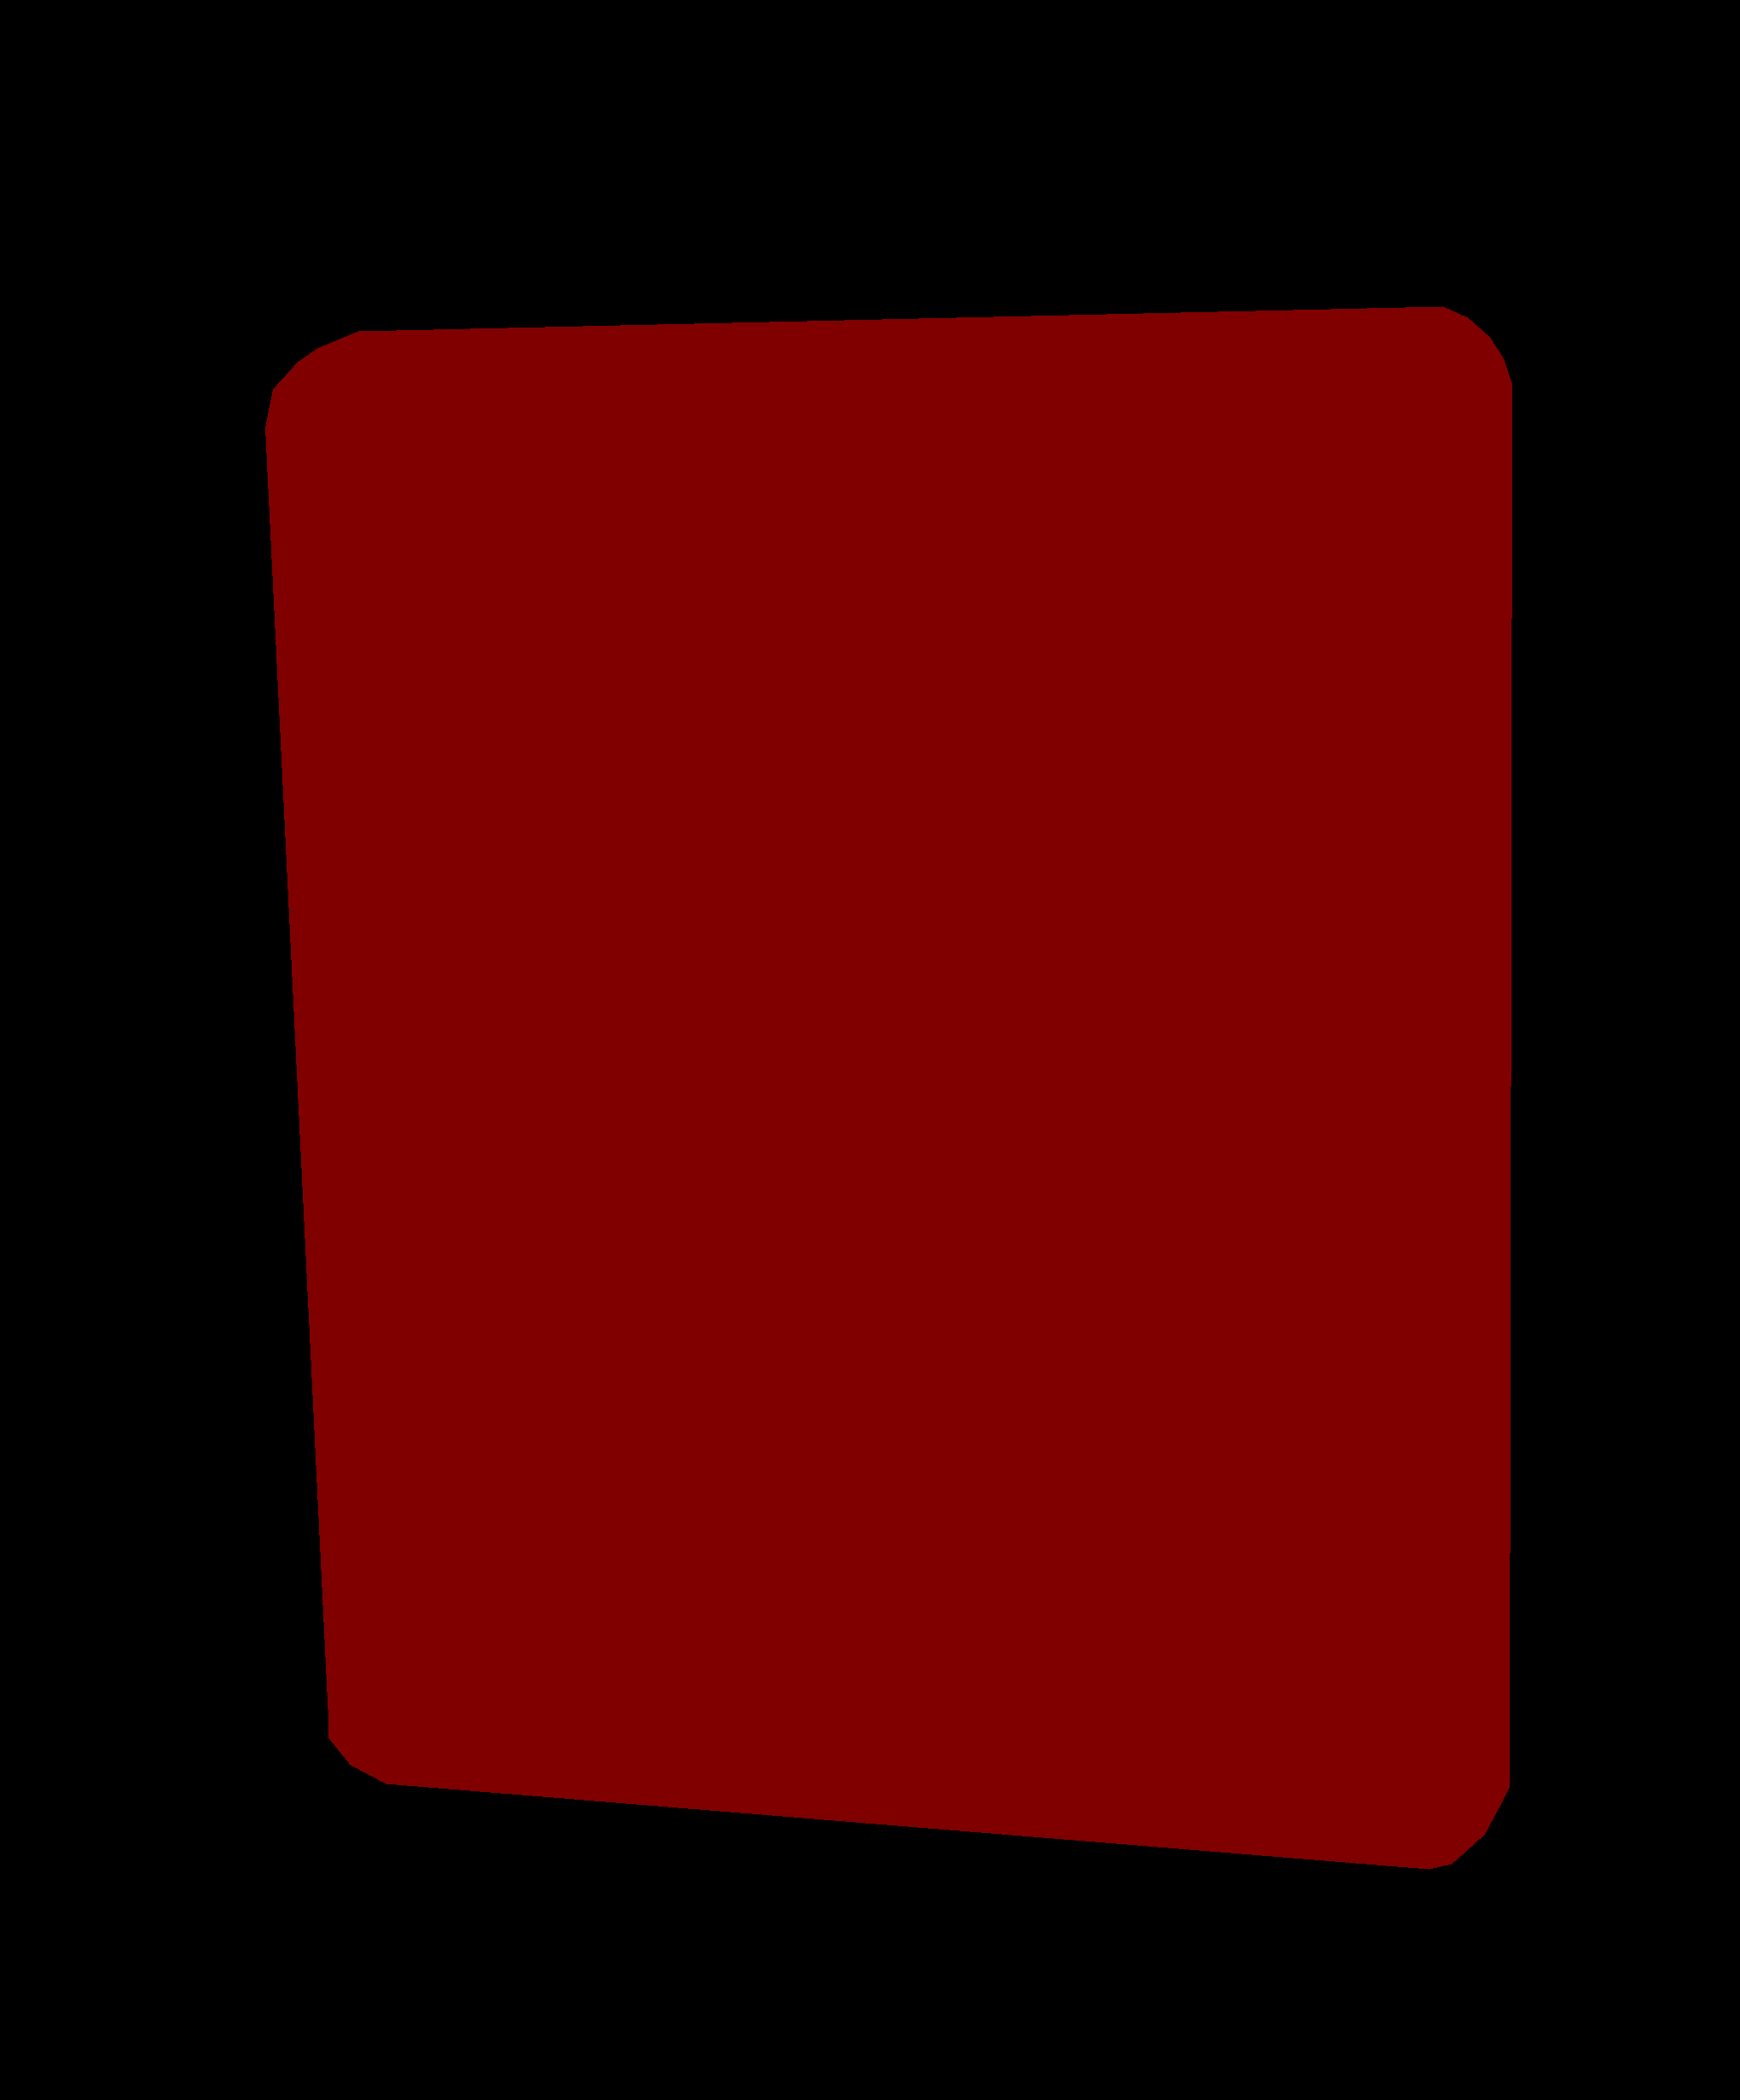sign: (265, 307, 1512, 1868)
